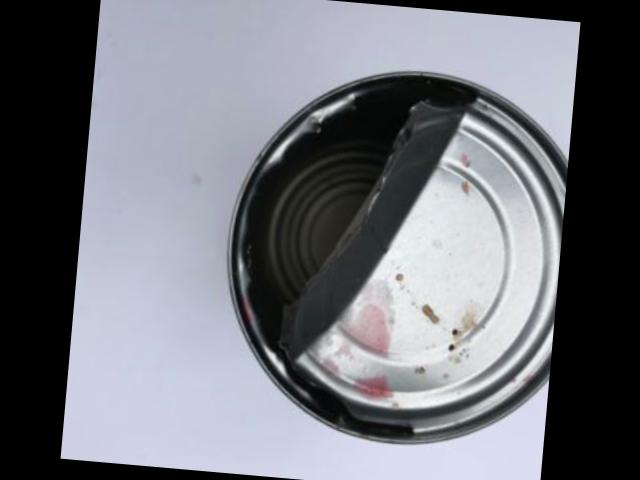metal: (232, 74, 568, 444)
